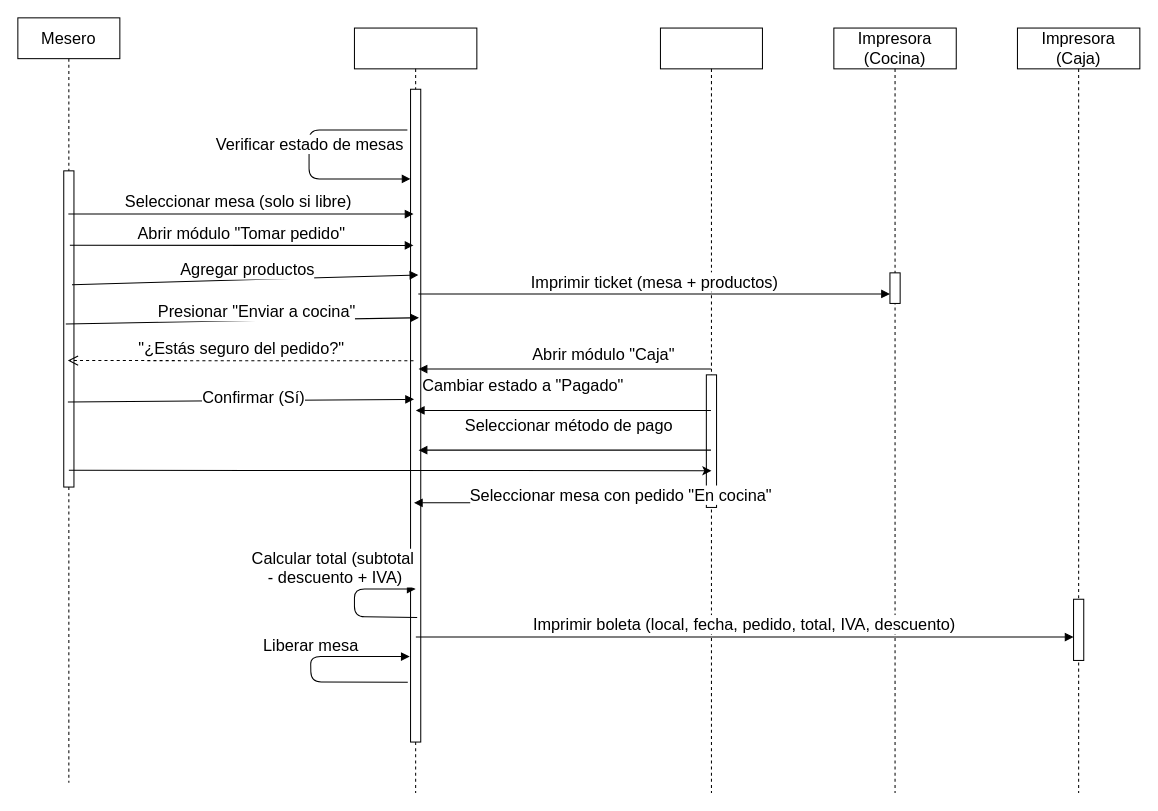
The diagram is 1158 pixels wide and 811 high, and some of its shapes have lost their labels. The box of each missing label's shape, as (x1, y1, x2, y2) in pixels:
Cajero: (659, 27, 762, 793)
Sistema FASTPOS: (353, 27, 477, 793)
